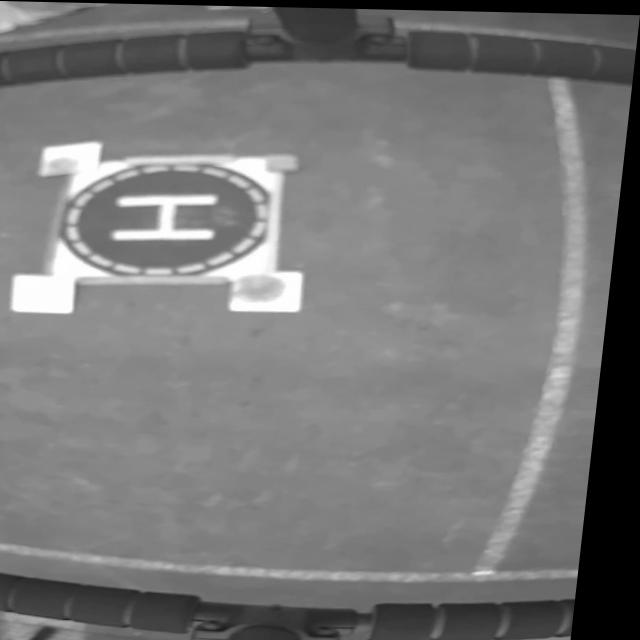Helipad: (118, 192, 223, 238)
